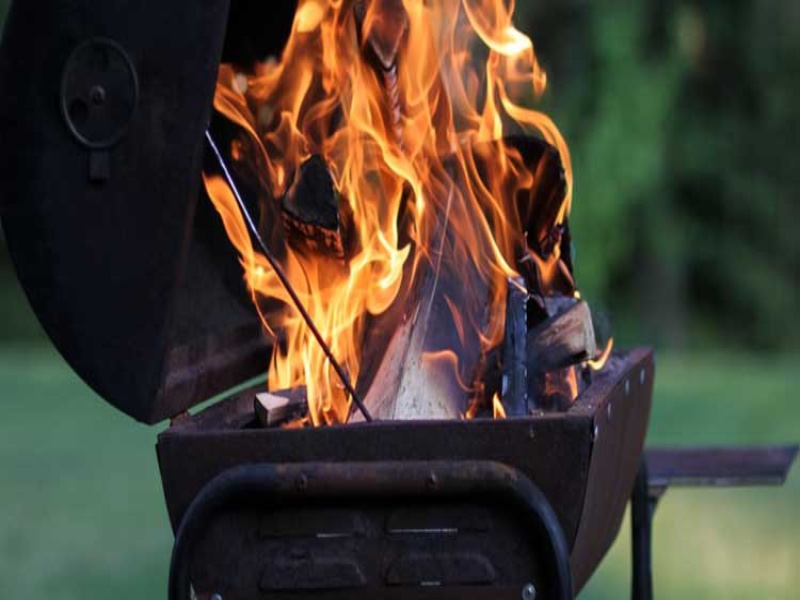fire: (200, 3, 614, 429)
